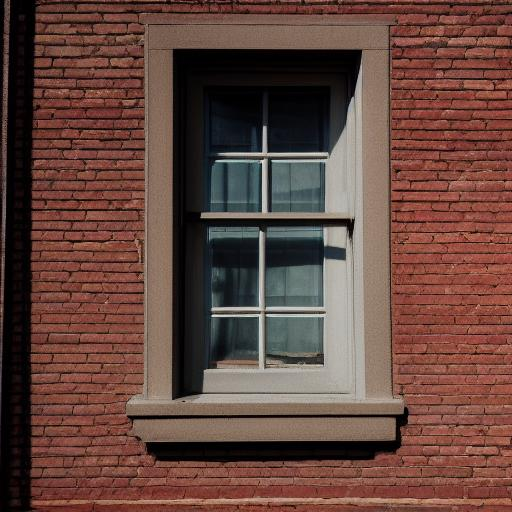Window: (127, 14, 408, 446)
